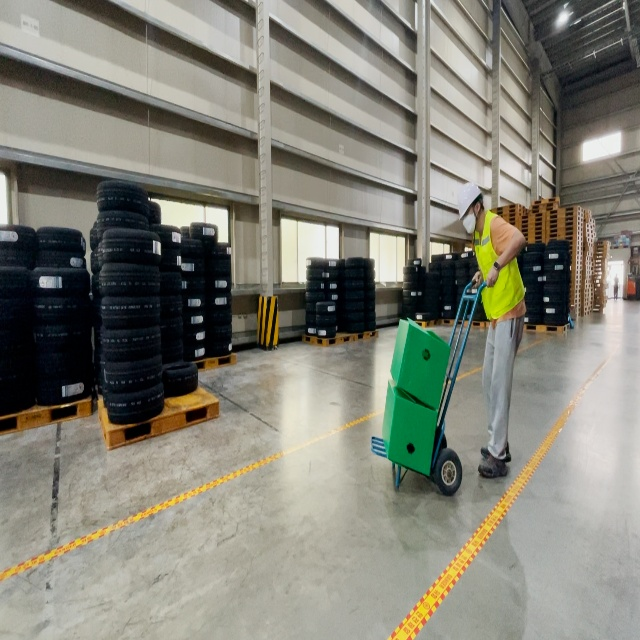Box: (389, 315, 452, 412), (381, 377, 439, 477)
Worker: (457, 180, 527, 481)
